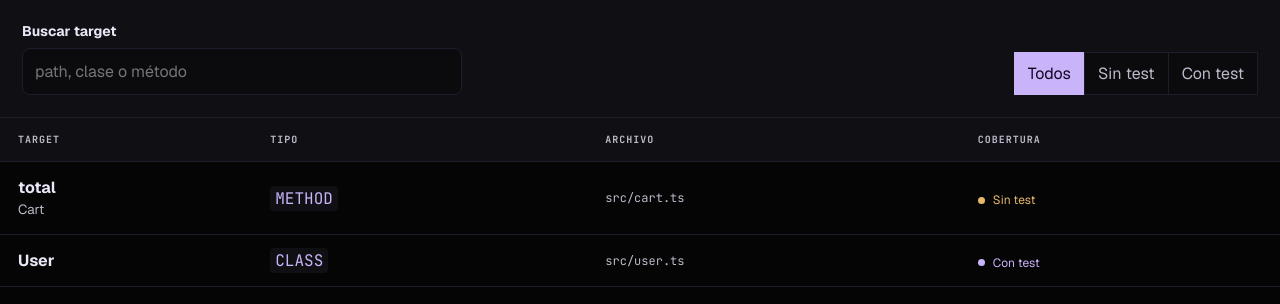
Test: filtra targets sin cobertura
The image size is (1280, 304).
What coordinates should you click on to do the following:
click the button "Sin test"
I would click on:
 (1126, 74)
Its box is [1084,52,1168,95].
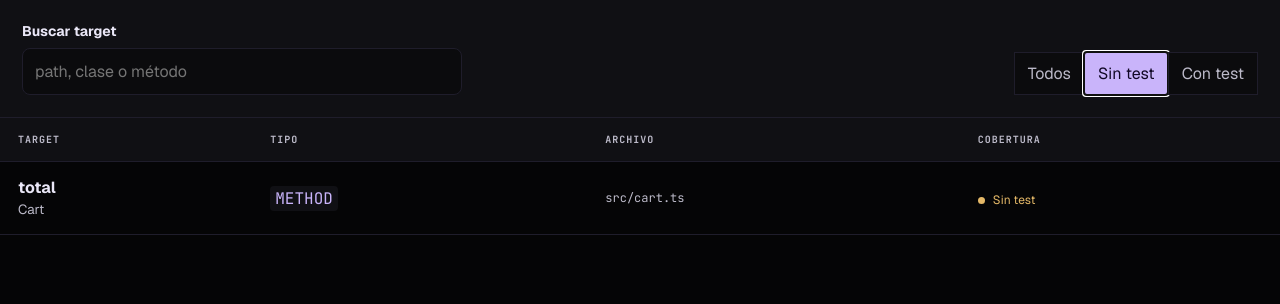
Expected: the text "total" is shown, [18,177,56,198]
Now the text "User" is gone
